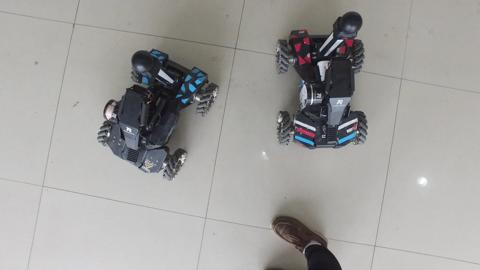chariot: (91, 43, 225, 192), (271, 8, 375, 158)
